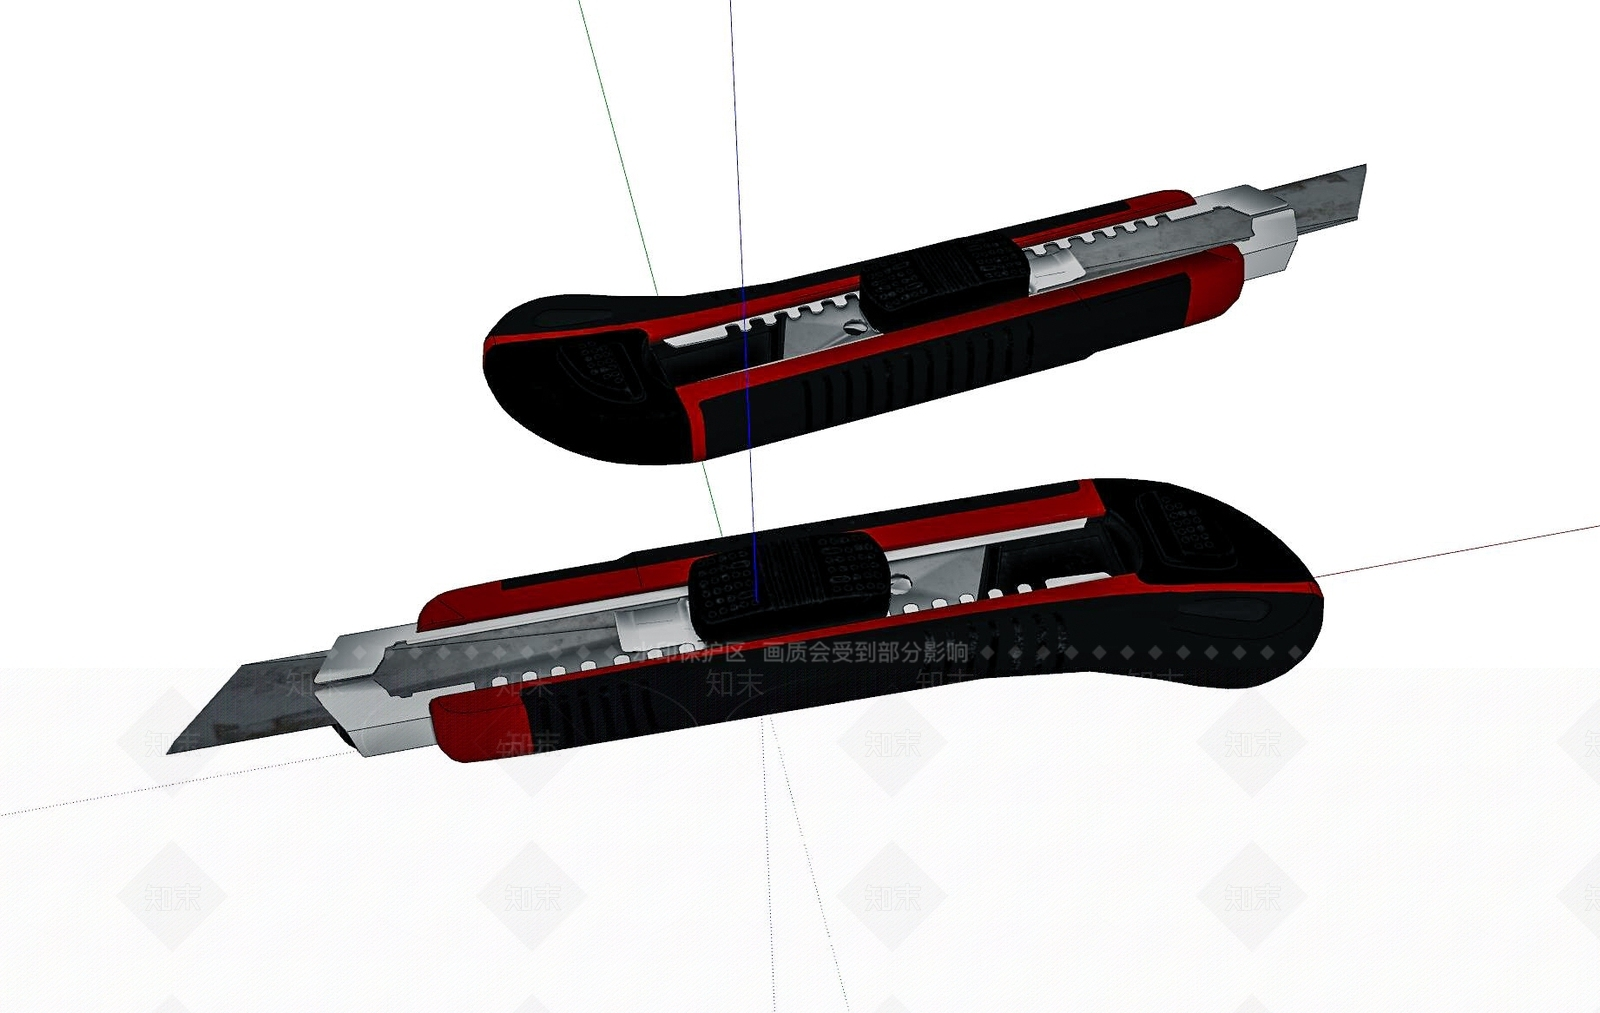cutter: (164, 477, 1324, 766), (479, 160, 1370, 466)
